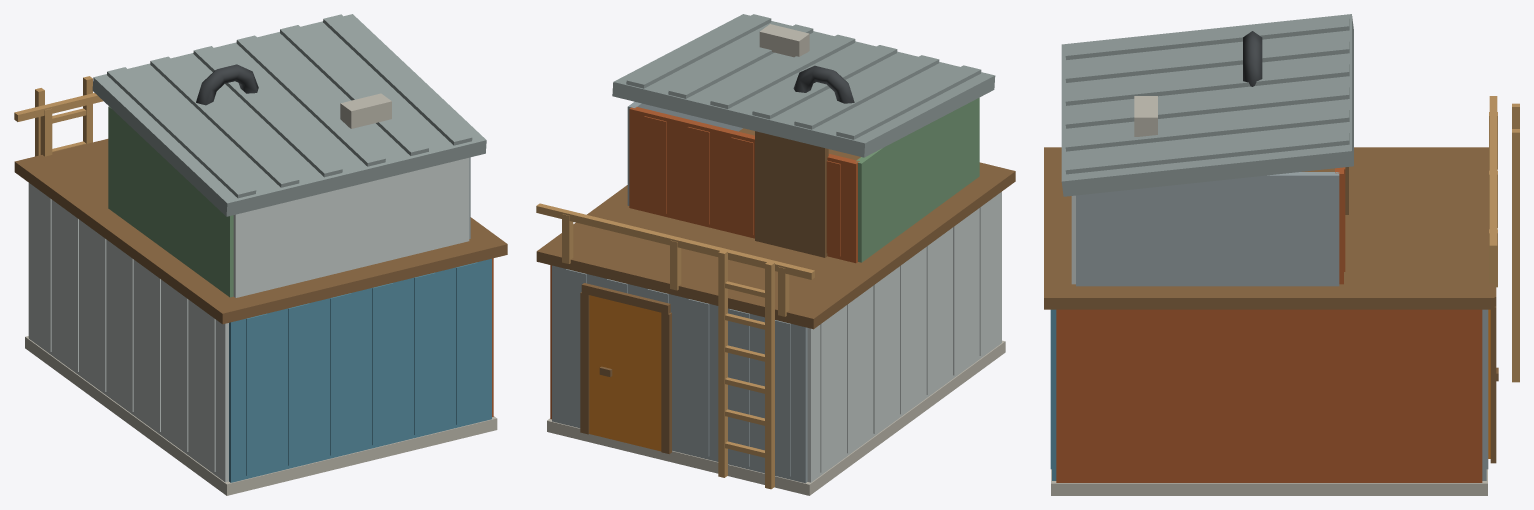
The model's file is cabane-tole-c.glb.
3 views of the same model, side by side, from view 1: azimuth 30°, elevation 25°; view 2: azimuth 150°, elevation 25°; view 3: azimuth 270°, elevation 25° (orthographic). The views are drawn at different scales.
Visible parts, largest first — view 1: toit-dalle, bas-arriere, haut-arriere, bas-gauche, plancher-etage, haut-gauche, socle, toit-nerv-0, toit-nerv-5, bas-arriere-nerv-1, bas-arriere-nerv-2, bas-arriere-nerv-3 (+19 smaller); view 2: plancher-etage, toit-dalle, bas-gauche, bas-facade, haut-gauche, porte-bas-panneau, haut-facade, porte-etage, socle, bas-facade-nerv-2, garde-corps-lisse, bas-facade-nerv-1 (+30 smaller); view 3: bas-droit, plancher-etage, haut-droit, toit-dalle, socle, bas-droit-nerv-2, bas-droit-nerv-3, bas-droit-nerv-0, bas-droit-nerv-1, bas-droit-nerv-4, bas-droit-nerv-5, bas-droit-nerv-6 (+14 smaller).
Part boxes in pixels (left/top/right/bottom): toit-dalle: left=92, top=14, right=486, bottom=216; bas-arriere: left=229, top=258, right=491, bottom=482; haut-arriere: left=233, top=158, right=469, bottom=297; bas-gauche: left=28, top=183, right=228, bottom=482; plancher-etage: left=14, top=139, right=507, bottom=324; haut-gauche: left=108, top=106, right=233, bottom=297; socle: left=25, top=336, right=497, bottom=495; toit-nerv-0: left=107, top=67, right=256, bottom=198; toit-nerv-5: left=323, top=14, right=472, bottom=145; bas-arriere-nerv-1: left=288, top=303, right=309, bottom=465; bas-arriere-nerv-2: left=330, top=293, right=351, bottom=455; bas-arriere-nerv-3: left=372, top=283, right=393, bottom=445; plancher-etage: left=536, top=128, right=1015, bottom=329; toit-dalle: left=612, top=14, right=995, bottom=157; bas-gauche: left=807, top=192, right=1001, bottom=482; bas-facade: left=552, top=265, right=807, bottom=483; haut-gauche: left=856, top=97, right=979, bottom=262; porte-bas-panneau: left=589, top=295, right=661, bottom=451; haut-facade: left=629, top=107, right=859, bottom=263; porte-etage: left=755, top=131, right=828, bottom=257; socle: left=547, top=340, right=1005, bottom=495; bas-facade-nerv-2: left=688, top=299, right=709, bottom=456; garde-corps-lisse: left=536, top=203, right=814, bottom=279; bas-facade-nerv-1: left=729, top=309, right=749, bottom=466; bas-droit: left=1056, top=309, right=1482, bottom=482; plancher-etage: left=1044, top=147, right=1494, bottom=309; haut-droit: left=1076, top=172, right=1339, bottom=286; toit-dalle: left=1061, top=14, right=1353, bottom=196; socle: left=1051, top=469, right=1487, bottom=495; bas-droit-nerv-2: left=1313, top=309, right=1343, bottom=479; bas-droit-nerv-3: left=1254, top=309, right=1284, bottom=479; bas-droit-nerv-0: left=1432, top=309, right=1461, bottom=479; bas-droit-nerv-1: left=1373, top=309, right=1402, bottom=479; bas-droit-nerv-4: left=1195, top=309, right=1224, bottom=479; bas-droit-nerv-5: left=1136, top=309, right=1165, bottom=479; bas-droit-nerv-6: left=1077, top=309, right=1106, bottom=479.
Bounding box in the file's own units: 0.15 × 0.17 × 0.2.
